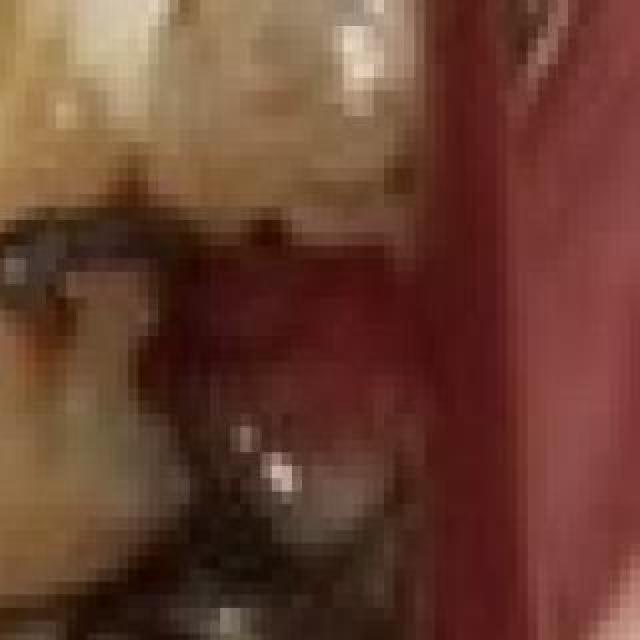cavities: (0, 12, 466, 620), (0, 530, 466, 640)
